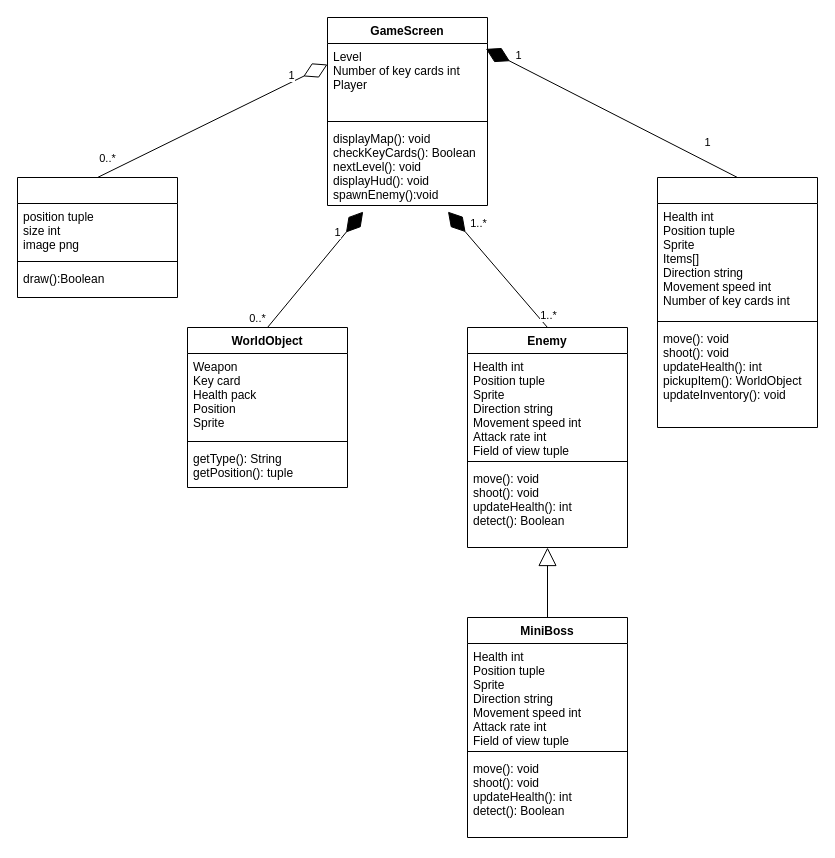
This 835x858 diagram has some shape labels left out. Here are the shapes that lost their labels. From the top down, the box of each, then its label:
(16, 176, 178, 298): Button
(656, 176, 818, 428): Player
